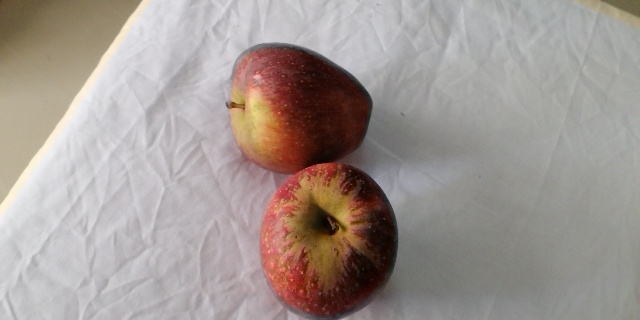apple_kashmir: (259, 161, 399, 320), (224, 42, 375, 174)
